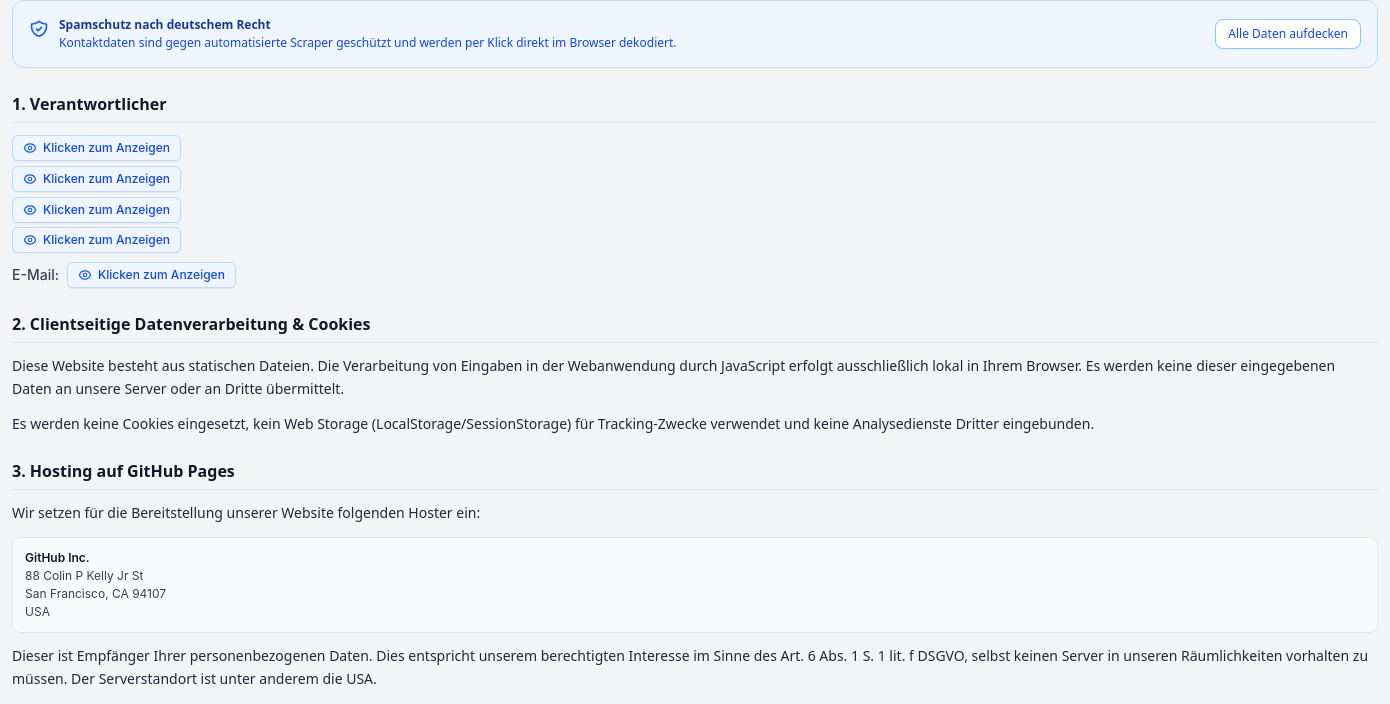
Legal Components › PrivacyPolicyContent › renders all 5 GDPR sections and spam protection banner identical to Impressum
The image size is (1390, 704).
Expected: the text "Spamschutz nach deutschem Recht" is shown, [59,16,271,33]
Expected: the heading "1. Verantwortlicher" is shown, [12,92,1378,123]
What coordinates should you click on to do the following:
click the button "Alle Daten aufdecken"
I would click on:
 (1288, 34)
Its box is [1215,19,1361,49].
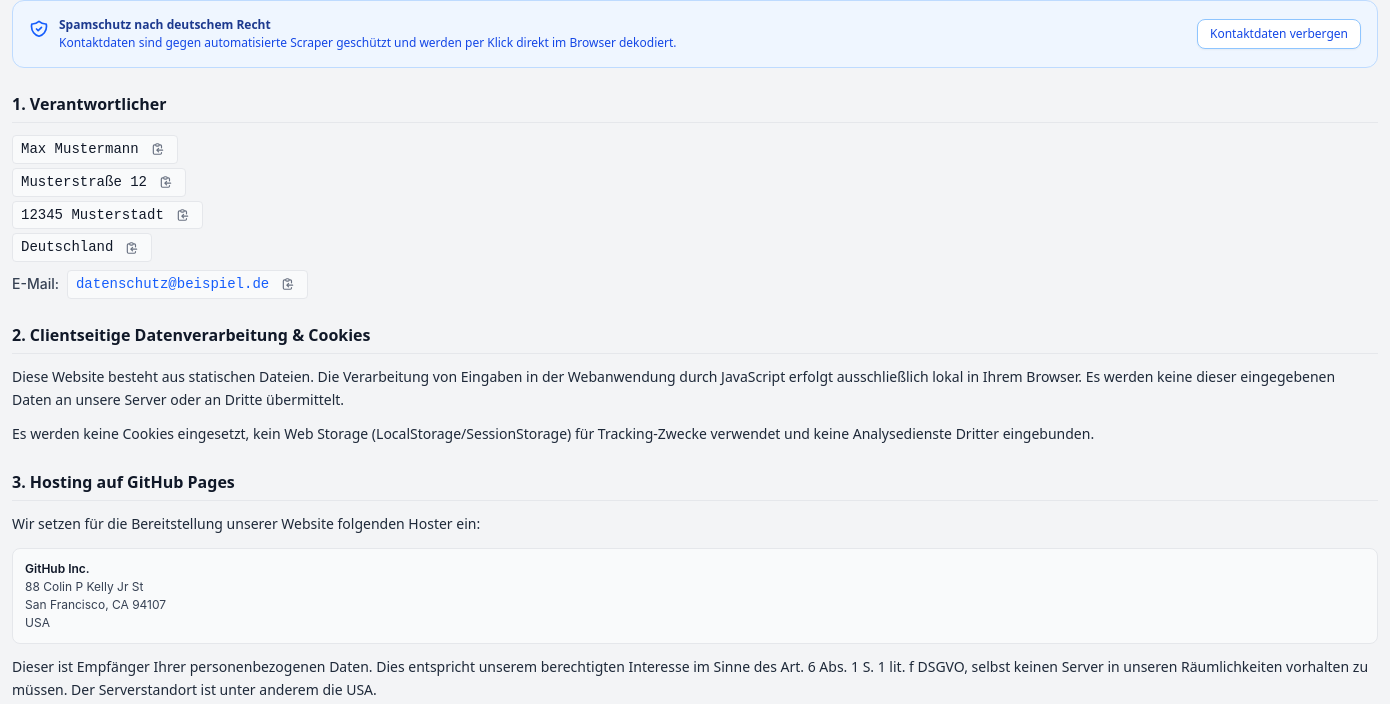
Result: the text "Max Mustermann" is shown at [21,138,139,161]
Result: the link "datenschutz@beispiel.de" is shown at [76,273,269,296]
